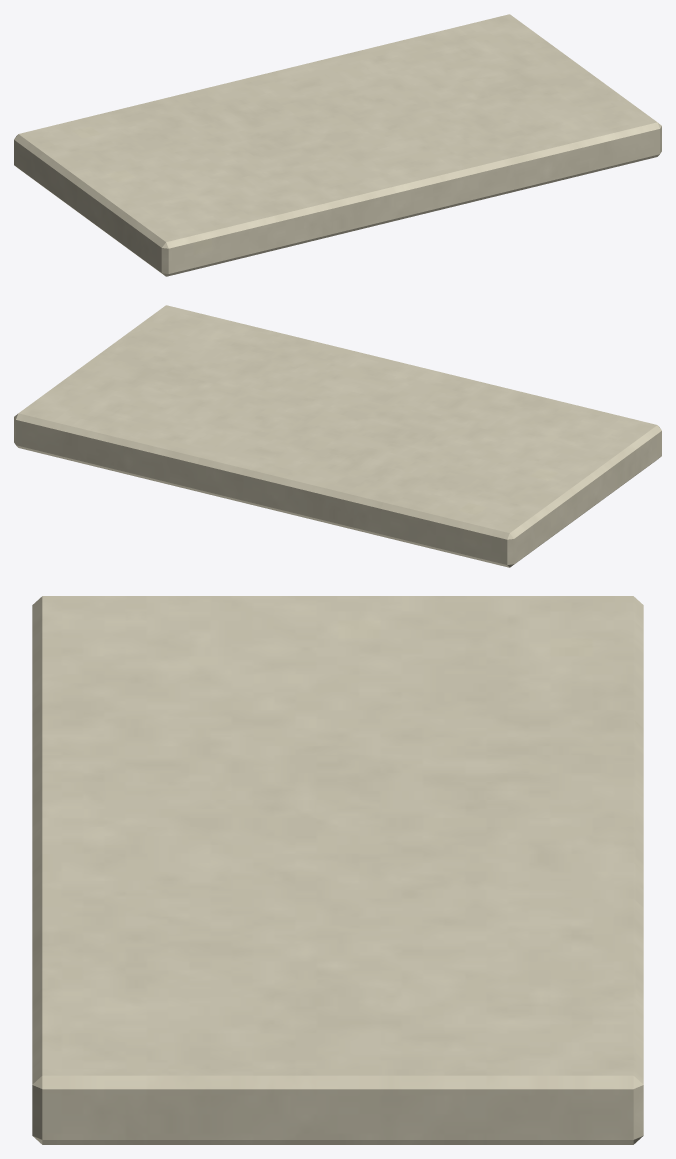
3 renders of one model, top to bottom at view 1: azimuth 30°, elevation 25°; view 2: azimuth 150°, elevation 25°; view 3: azimuth 270°, elevation 25°, orthographic. The views are drawn at different scales.
Parts seen in each view (by area): view 1: heft; view 2: heft; view 3: heft.
Part boxes in pixels (x1,y1,x2,y2): heft: (14,14,661,276); heft: (14,305,661,567); heft: (32,596,643,1144).
Size of the model in its own units: 0.068 by 0.0045 by 0.036.
1 material, 1 textured.
